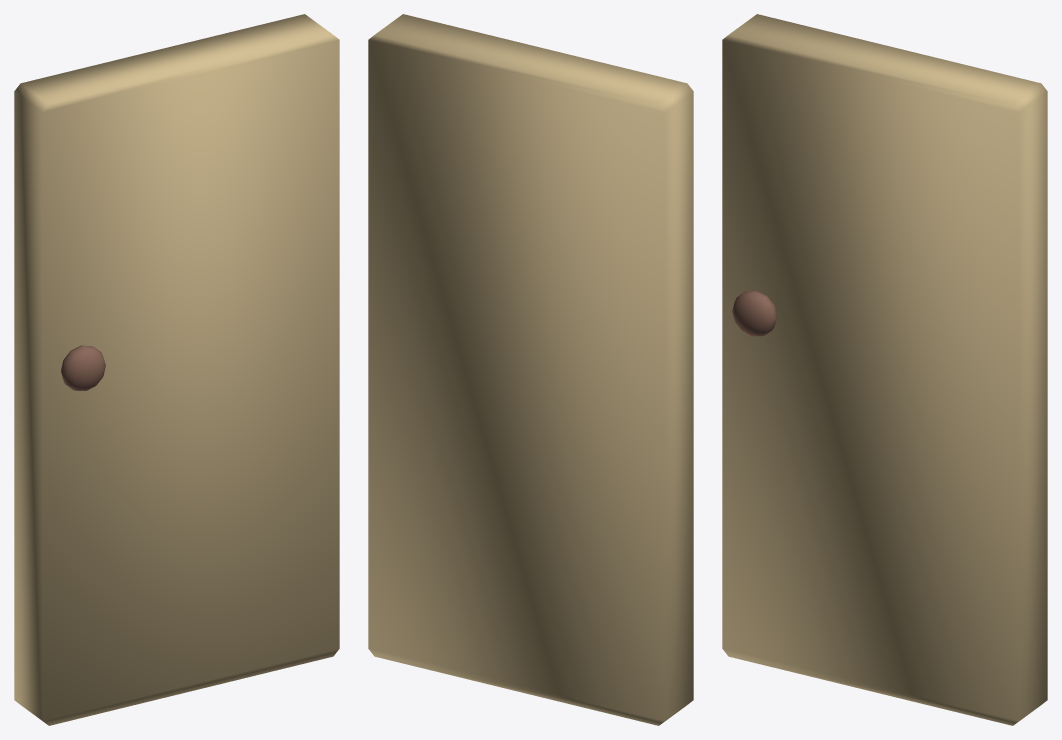
Rendered from Door.fbx.
3 views of the same model, side by side, from view 1: azimuth 30°, elevation 25°; view 2: azimuth 150°, elevation 25°; view 3: azimuth 330°, elevation 25° (orthographic).
Visible parts, largest first — view 1: Cube; view 2: Cube; view 3: Cube.
Boxes of the visible parts, <box> form: Cube: <box>14,14,339,725</box>; Cube: <box>368,14,693,725</box>; Cube: <box>722,14,1047,725</box>.
Bounding box in the file's own units: 2 × 4 × 0.4698.
